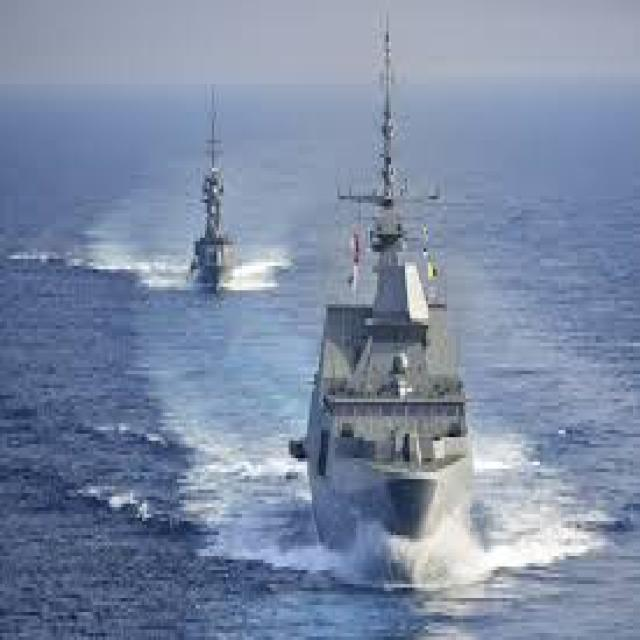navalvessels: (288, 22, 498, 564), (174, 92, 243, 276)
